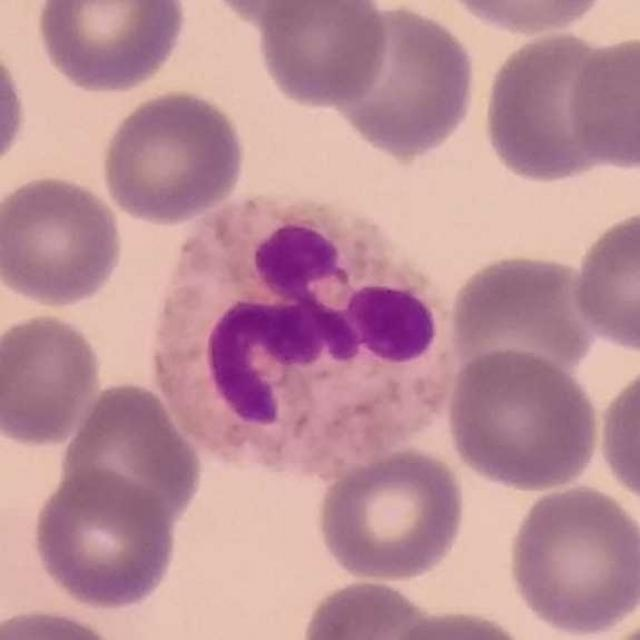Neutrophil: (145, 192, 458, 481)
RBC: (325, 0, 481, 161), (477, 26, 629, 188), (442, 344, 603, 493), (53, 378, 206, 534), (312, 444, 468, 586), (29, 467, 180, 612), (443, 250, 598, 390), (503, 474, 640, 632), (97, 86, 248, 227), (0, 172, 127, 310), (31, 0, 190, 97), (255, 0, 393, 110), (0, 310, 106, 448), (563, 32, 640, 174), (569, 206, 640, 356), (296, 575, 449, 640), (593, 356, 640, 520), (434, 0, 617, 37), (377, 605, 538, 640), (199, 0, 363, 29), (0, 604, 130, 640), (0, 36, 30, 182)
